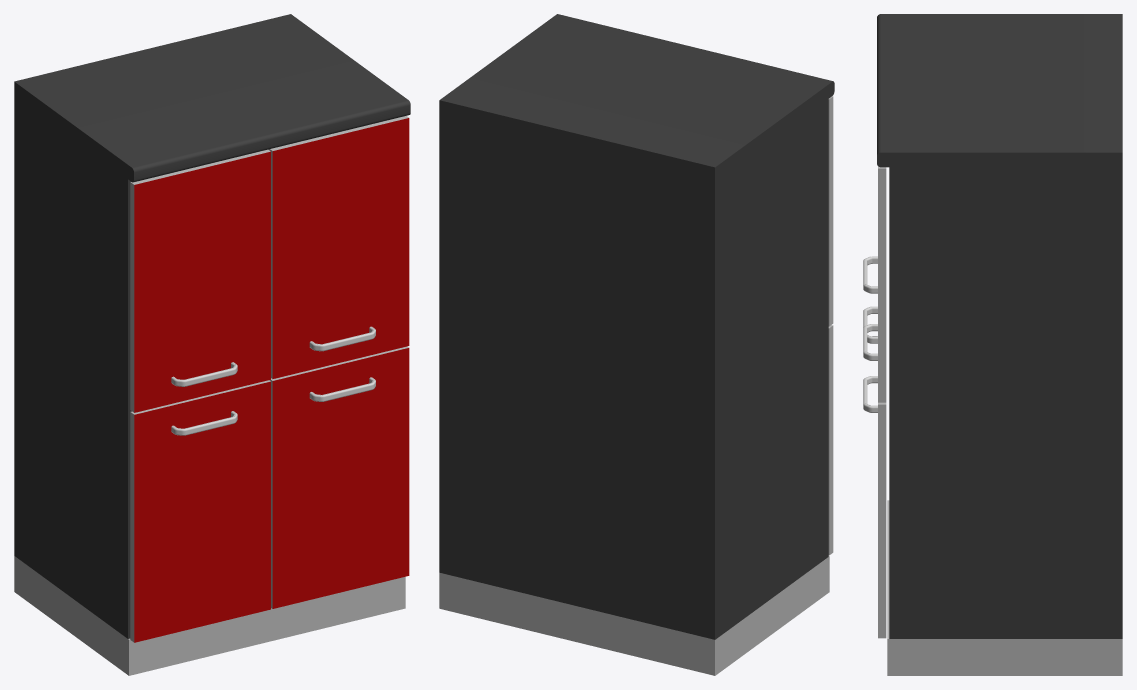
Rendered from mobilettoGrande.obj.
The picture shows the model from 3 angles, left to right: view 1: azimuth 30°, elevation 25°; view 2: azimuth 150°, elevation 25°; view 3: azimuth 270°, elevation 25°; orthographic projection. The views are drawn at different scales.
Visible parts, largest first — view 1: Rectangle18_1, Line69_11, Box622_8, Box652_18, Box642_13, Box612_5, Box63_10, Box613_6, Box643_14; view 2: Rectangle18_1, Line69_11, Box63_10, Box613_6, Box643_14; view 3: Rectangle18_1, Line69_11, Box63_10, Box653_19, Box623_9.
Boxes of the visible parts, left/top/right/bottom form: Rectangle18_1: left=14, top=93, right=131, bottom=638; Line69_11: left=14, top=14, right=410, bottom=182; Box622_8: left=272, top=348, right=409, bottom=608; Box652_18: left=272, top=118, right=409, bottom=378; Box642_13: left=134, top=151, right=270, bottom=412; Box612_5: left=134, top=381, right=270, bottom=642; Box63_10: left=14, top=556, right=405, bottom=675; Box613_6: left=130, top=412, right=134, bottom=642; Box643_14: left=130, top=182, right=134, bottom=412; Rectangle18_1: left=439, top=96, right=828, bottom=639; Line69_11: left=439, top=14, right=834, bottom=181; Box63_10: left=439, top=556, right=829, bottom=675; Box613_6: left=828, top=325, right=833, bottom=555; Box643_14: left=828, top=96, right=833, bottom=326; Rectangle18_1: left=889, top=163, right=1122, bottom=638; Line69_11: left=877, top=14, right=1122, bottom=167; Box63_10: left=887, top=500, right=1122, bottom=675; Box653_19: left=878, top=168, right=886, bottom=402; Box623_9: left=878, top=404, right=886, bottom=638.
Size of the model in its own units: 80 by 141 by 63.38.
